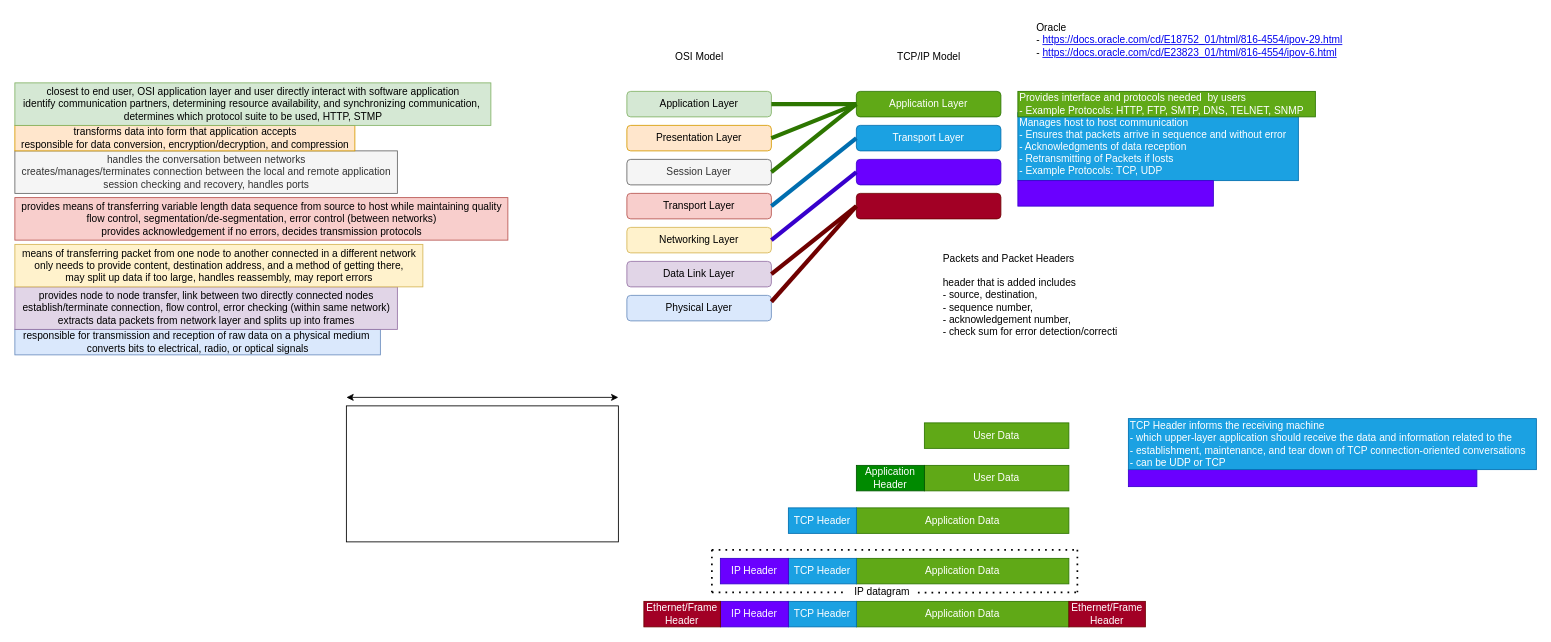
Image size: 1551x642. Some labels were removed from this diagram. Here are the shapes that lost their labels. From the top down, the centre of each, then its label:
At point (928, 172): "Internet Layer".
At point (928, 206): "Link Layer".
At point (1115, 193): "Where packets are prepared for delivery - Example Protocols: IPv4, IPv6".
At point (1302, 478): "IP Header mostly specifies where packet is going and where it came from".
